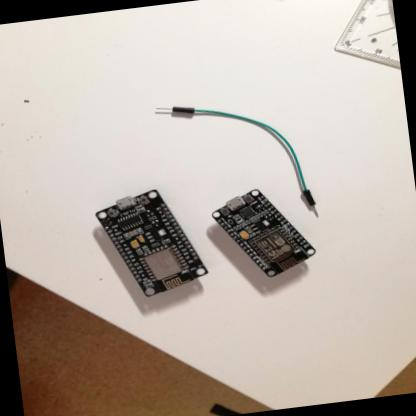ESP8266: (94, 182, 214, 306), (209, 182, 322, 287)
